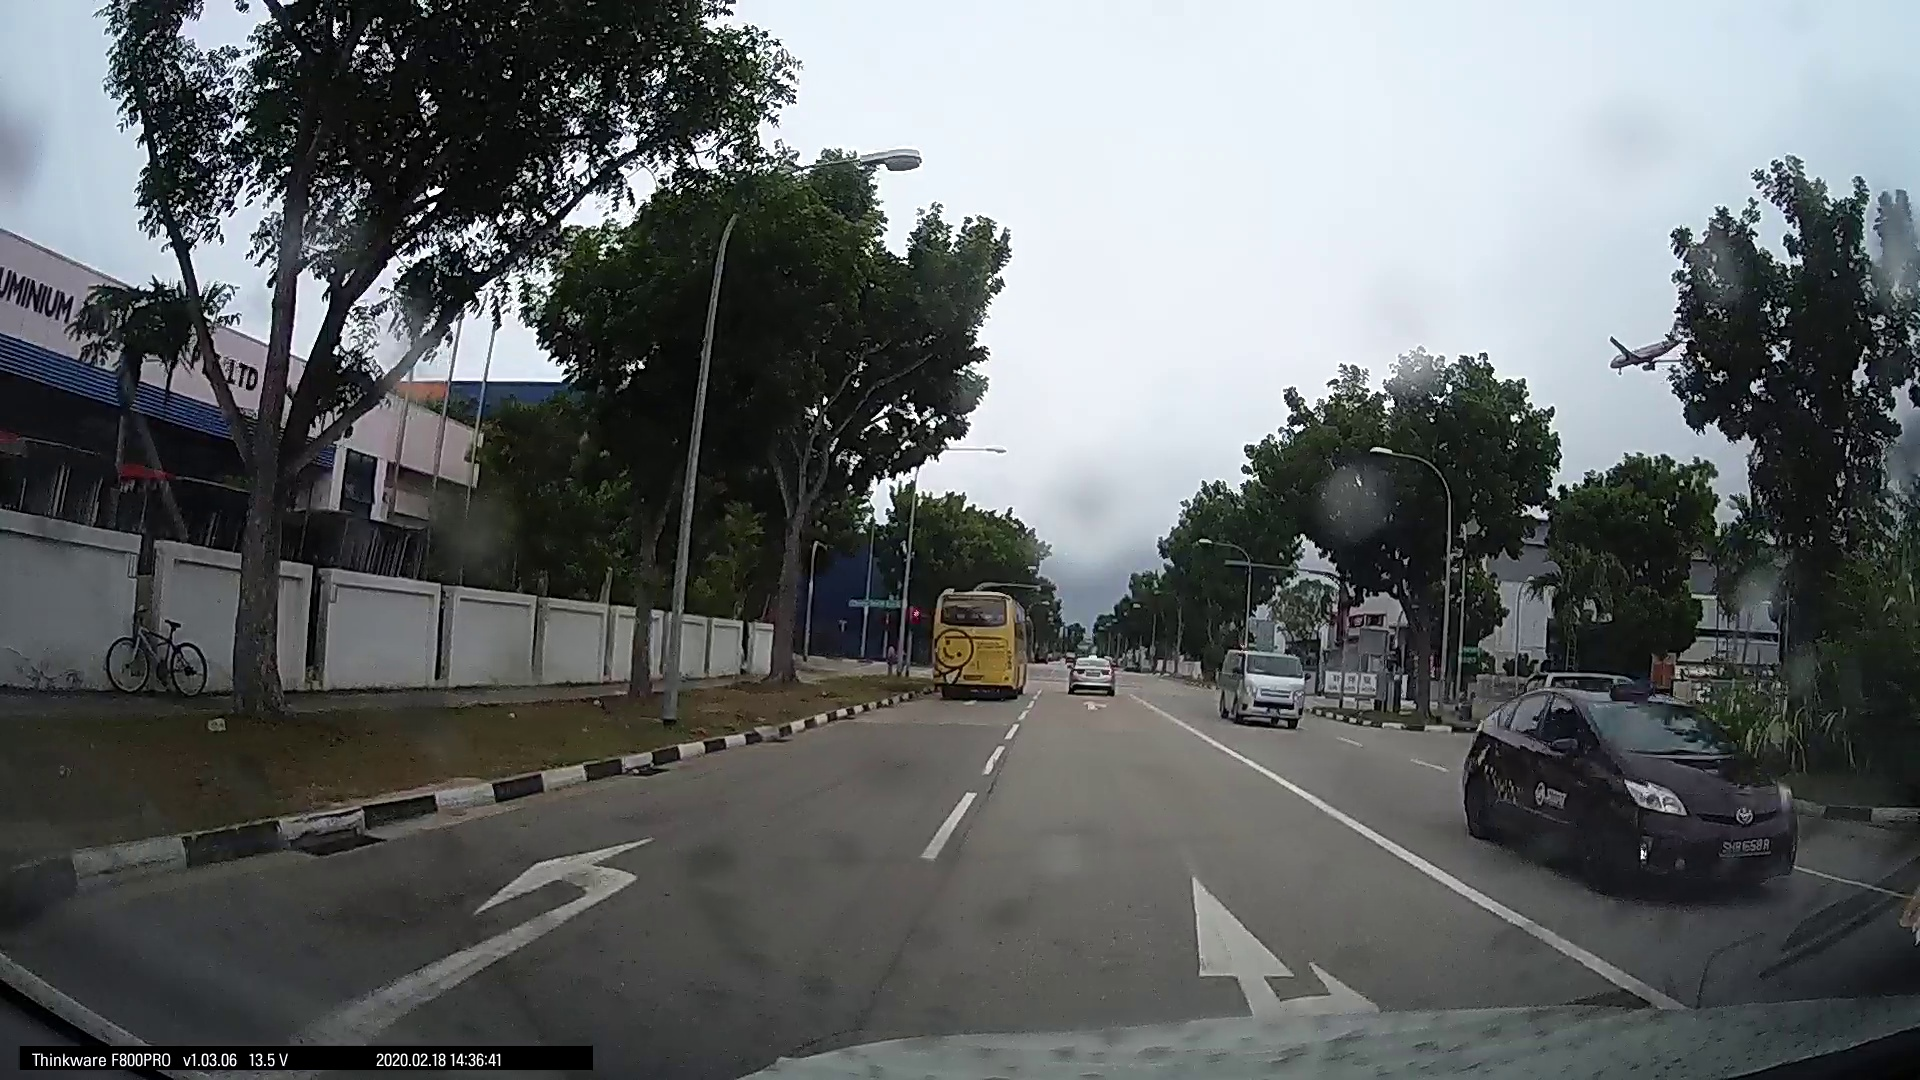Heavy Vehicle: (924, 585, 1029, 703), (1213, 641, 1305, 728)
Light Vehicle: (1461, 671, 1803, 902), (1062, 646, 1116, 698)
